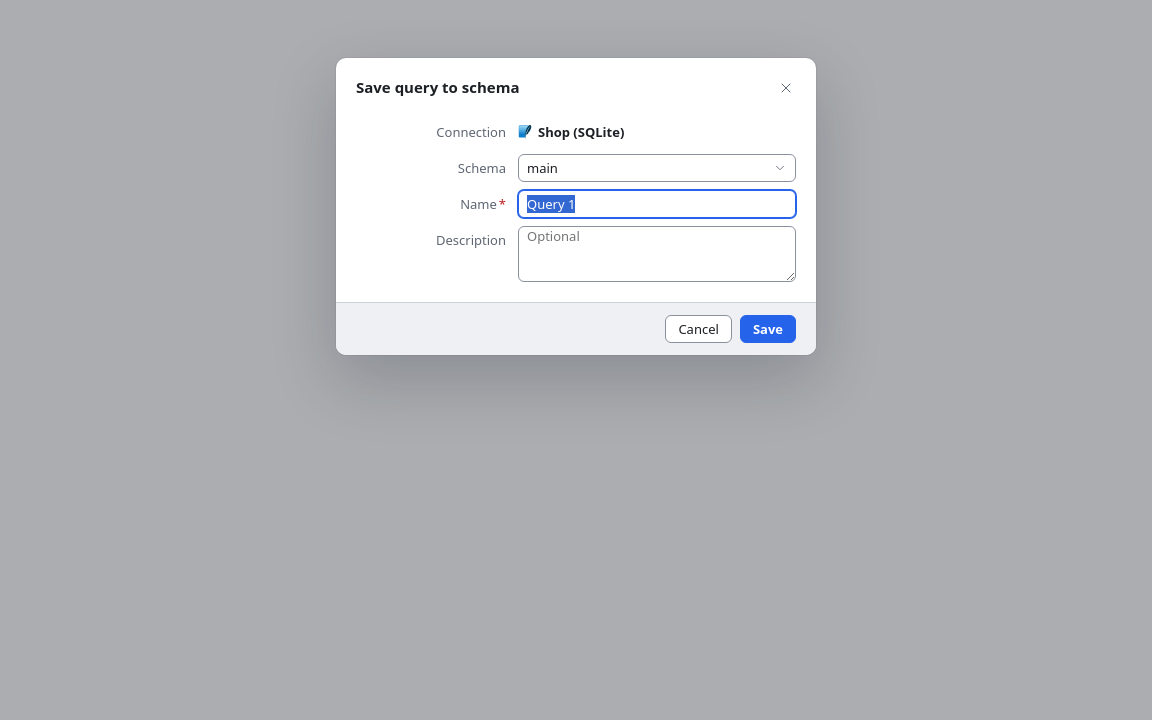
Test: saving a console to a schema › a name the server refuses (another window took it) shows the inline error too
Replace the text in the field labelled "Name*" with "Low stock" at (657, 204), box [518,190,796,218]
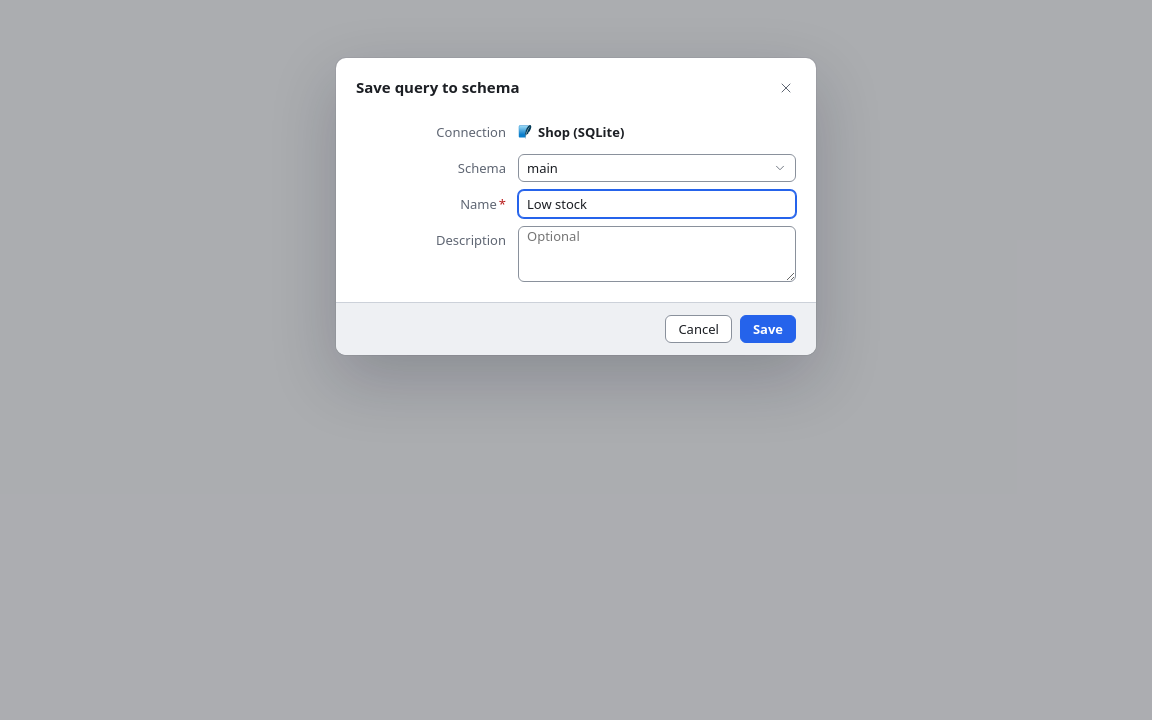
Click the button with test id "sq-submit" at (768, 329), box [740,315,796,343]
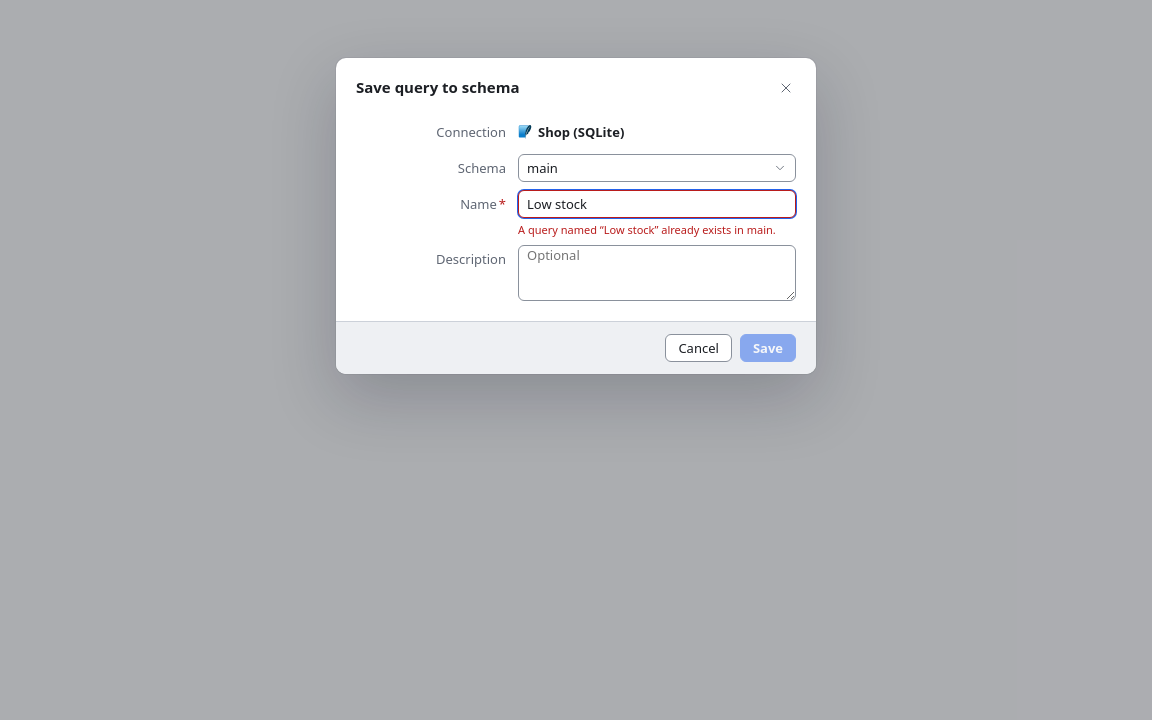
expect the message shows "already exists": met, box [518,222,776,237]
